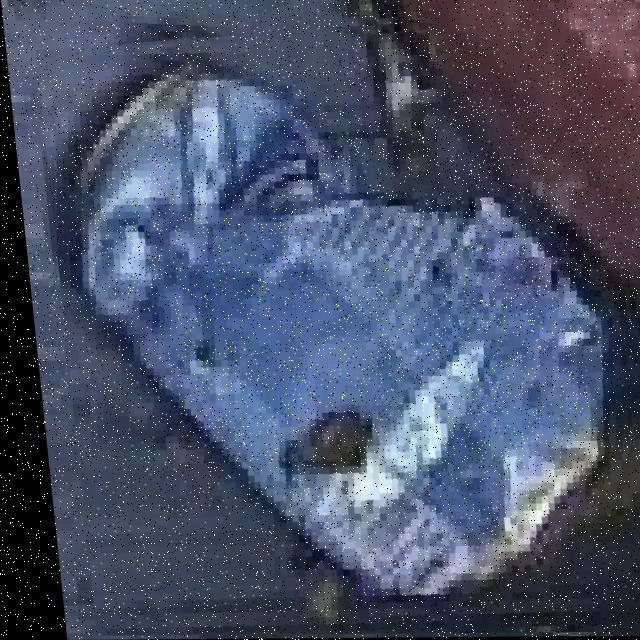litter: (48, 31, 624, 634)
